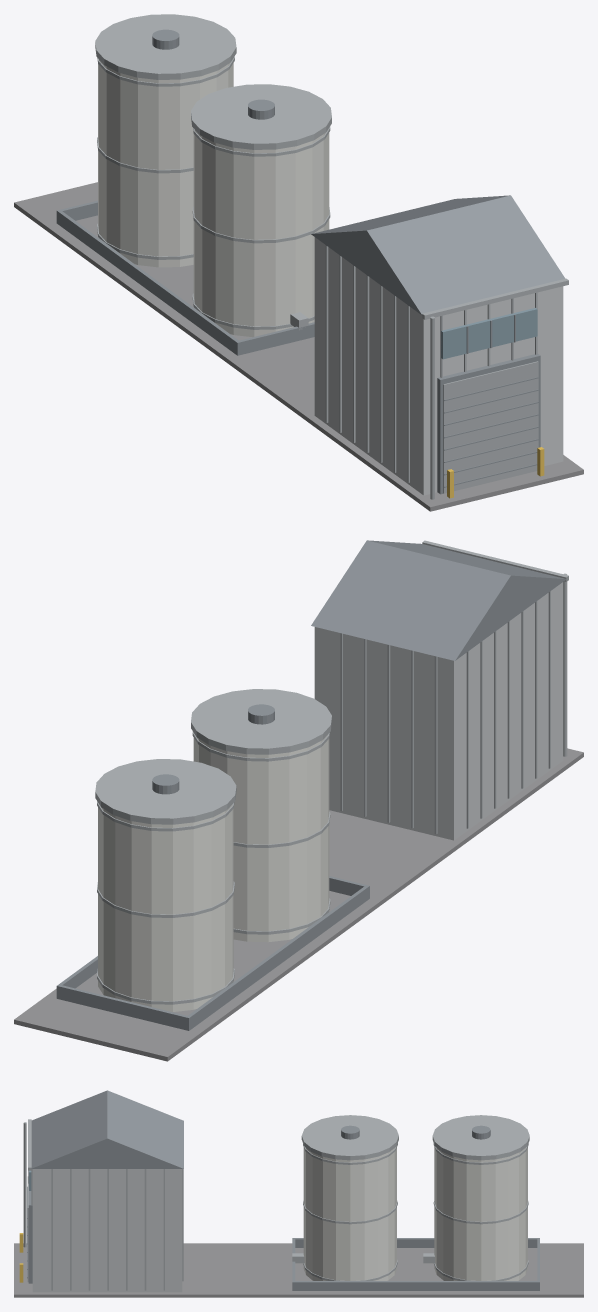
Rendered from industrial_1x4.glb.
3 renders of one model, top to bottom at view 1: azimuth 30°, elevation 25°; view 2: azimuth 150°, elevation 25°; view 3: azimuth 270°, elevation 25°, orthographic. The views are drawn at different scales.
Visible parts, largest first — view 1: industrial_1x4_yard; view 2: industrial_1x4_yard; view 3: industrial_1x4_yard.
Boxes of the visible parts, x1,y1,x2,y2 form: industrial_1x4_yard: [14, 14, 583, 511]; industrial_1x4_yard: [14, 540, 583, 1061]; industrial_1x4_yard: [14, 1090, 583, 1297].
Size of the model in its own units: 6.5 by 9.3 by 30.5.
